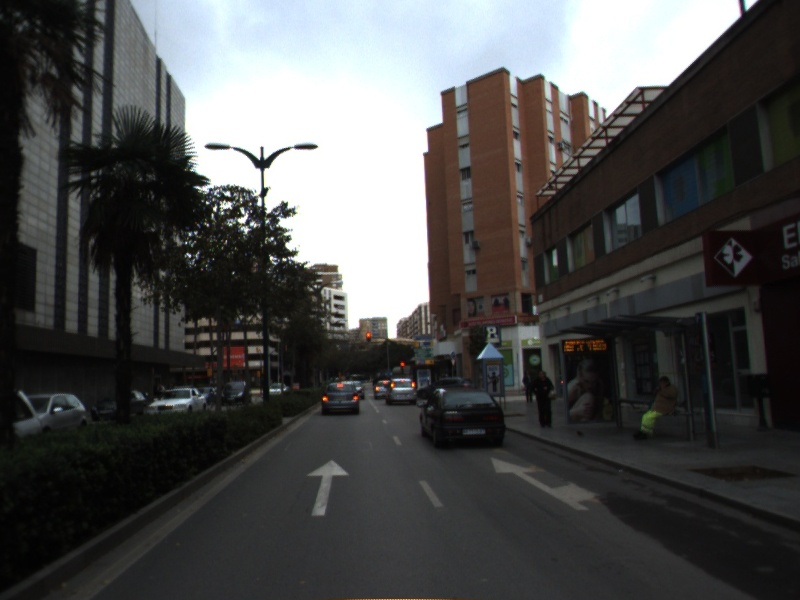STRAIGHT: (304, 458, 352, 518)
STRAIGHT_RIGHT: (488, 455, 601, 512)
